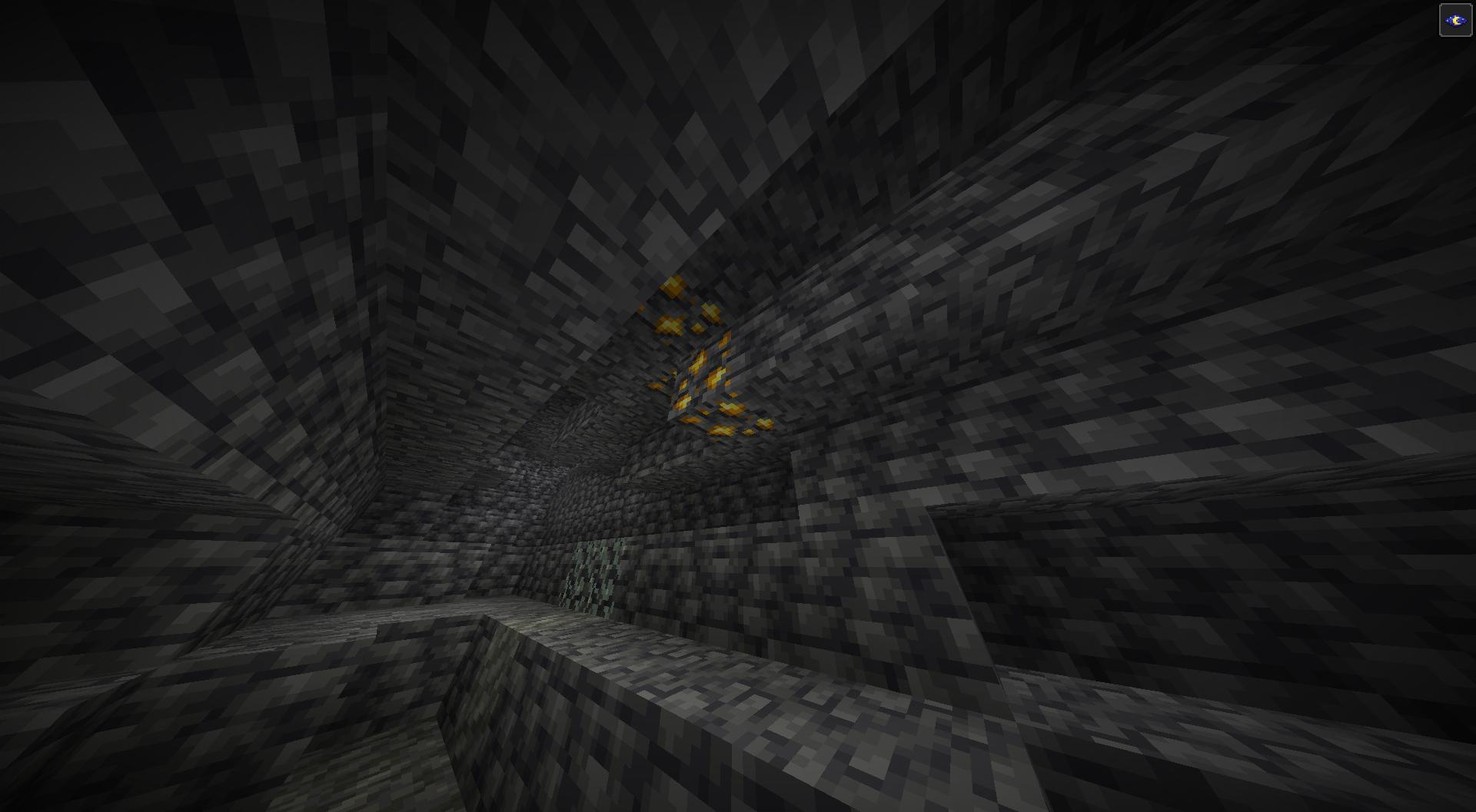gold ore: (675, 338, 764, 443), (637, 269, 723, 347)
